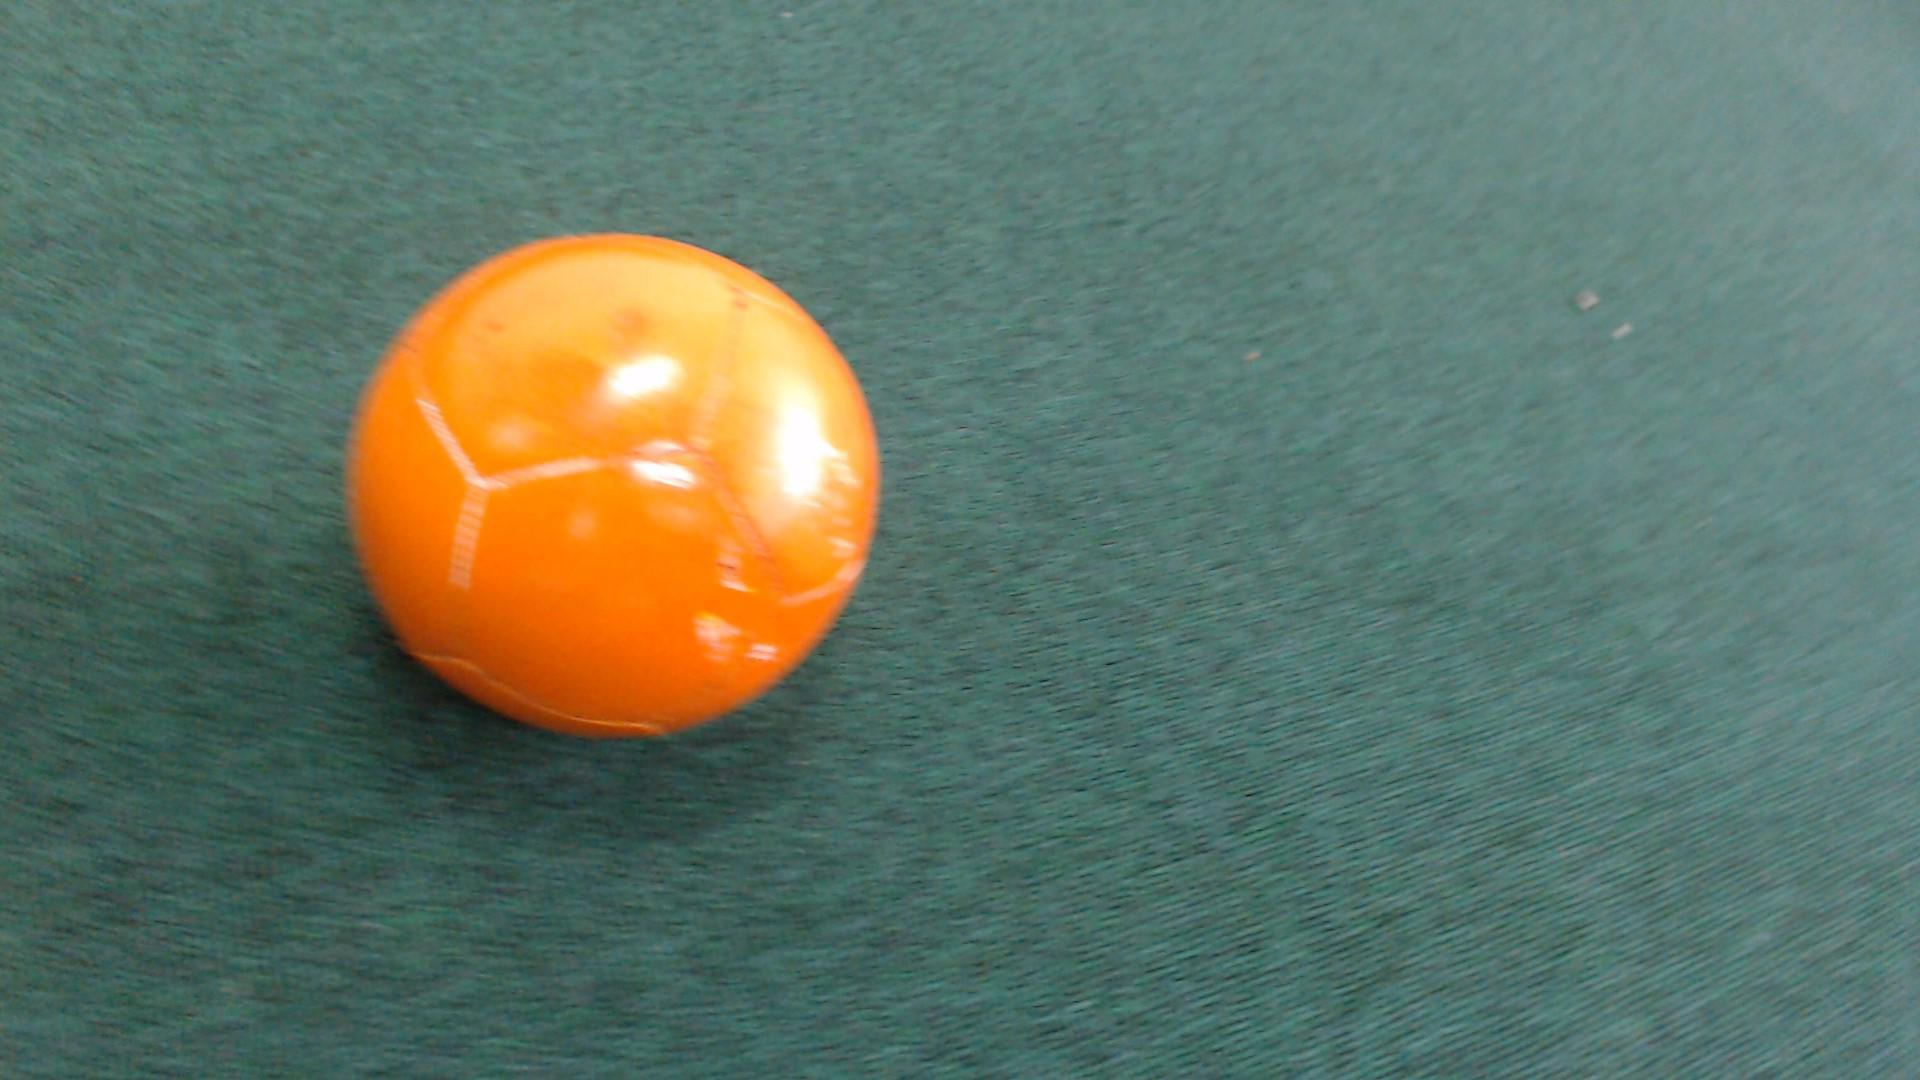bola: (298, 203, 932, 773)
